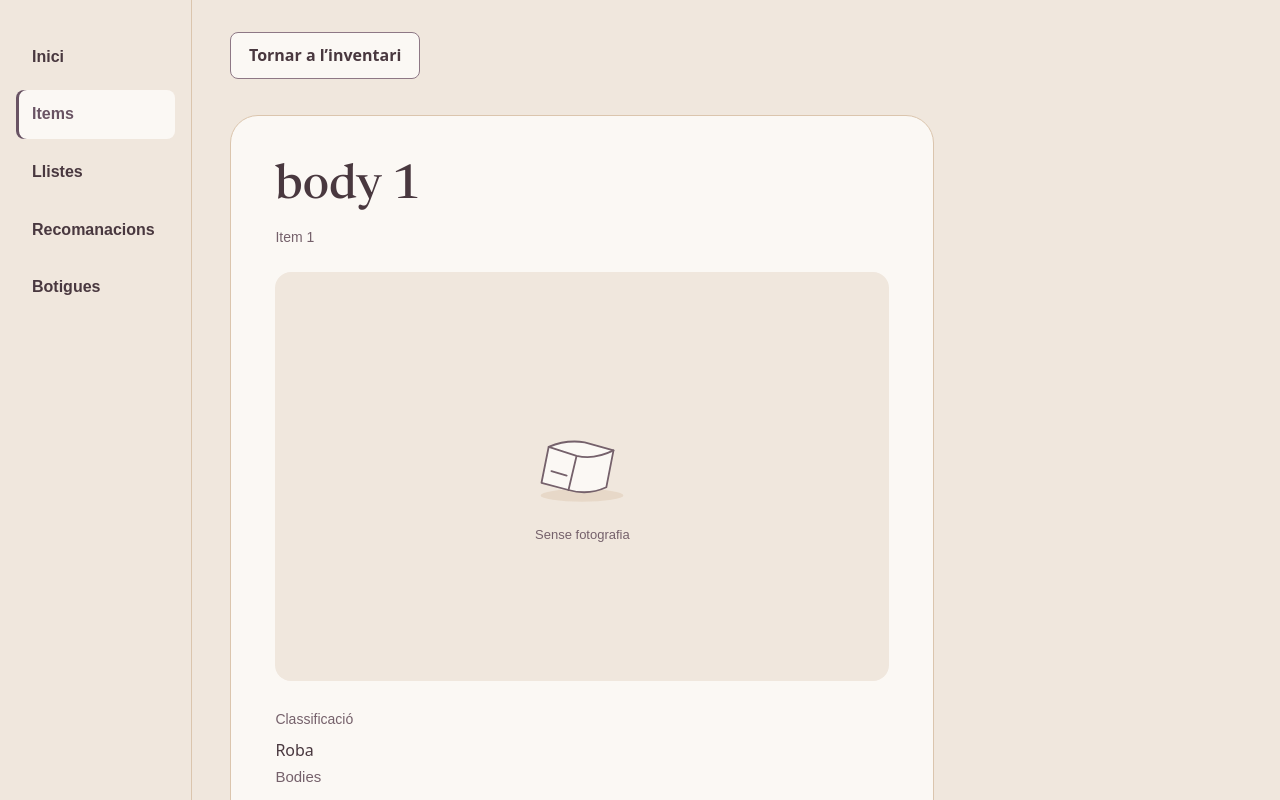
Test: accés directe només recupera filtres URL, sense expansions ni scroll
Expected: the heading "body 1" is shown, top-left (275, 163), bottom-right (420, 211)
Click the link "Tornar a l’inventari": (325, 55) top-left (230, 32), bottom-right (420, 79)
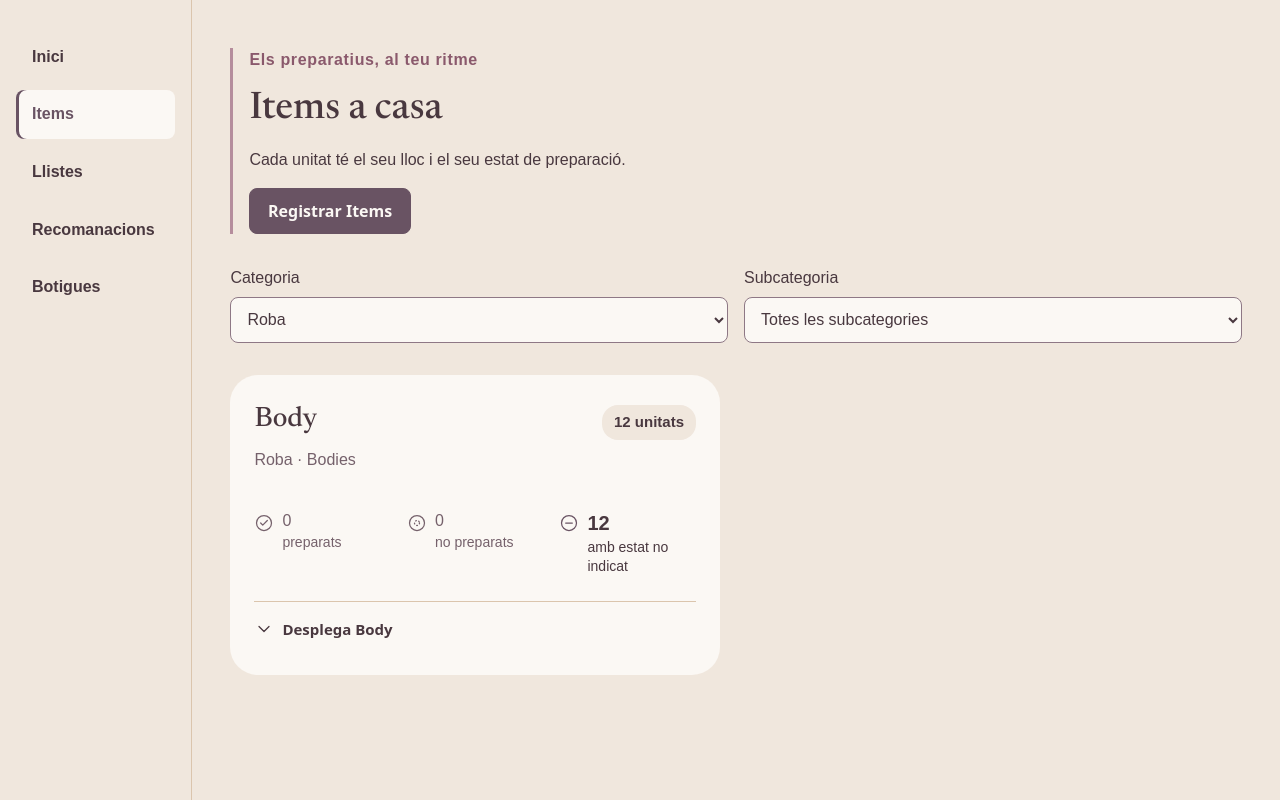
Result: the button "Desplega Body" is shown at top-left (254, 601), bottom-right (696, 647)
Result: the text "Item 1" is gone
